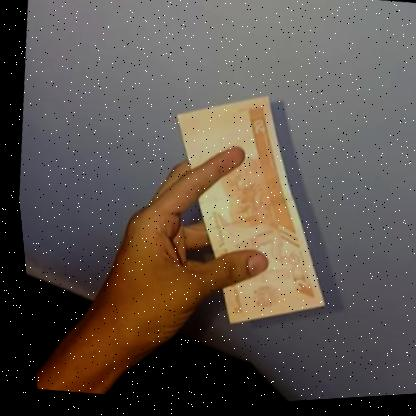twenty-back-vef: (142, 83, 348, 341)
